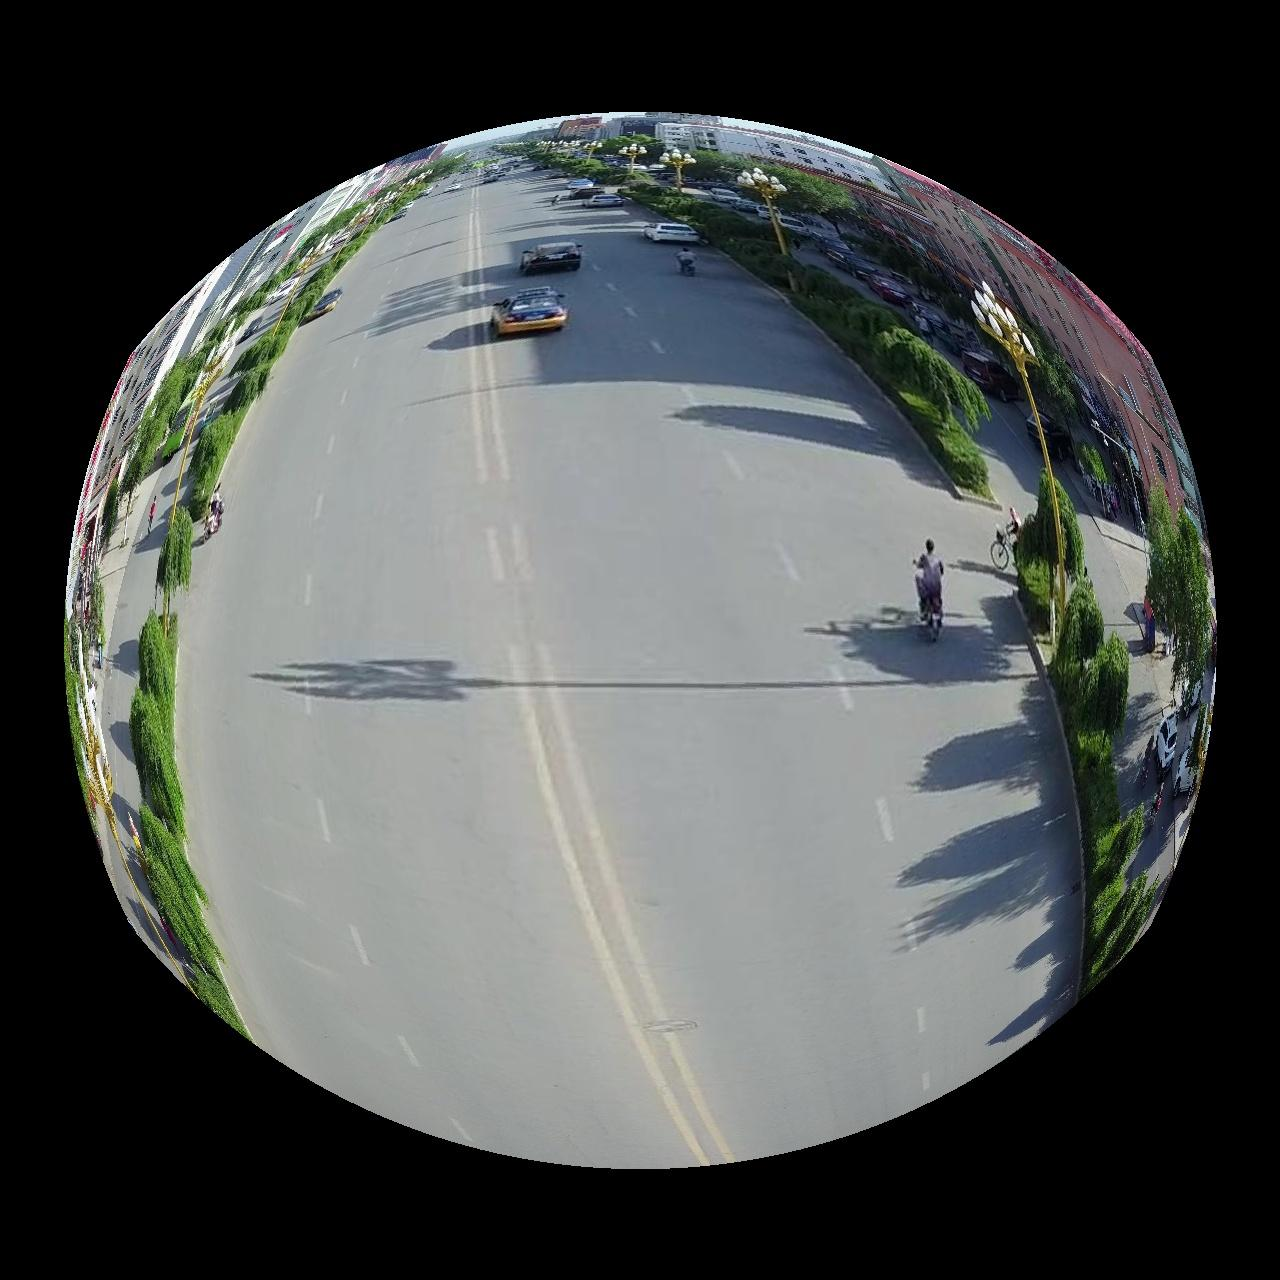cars: (491, 286, 568, 334), (519, 241, 583, 273), (644, 222, 699, 241)
trees: (629, 183, 992, 497), (188, 219, 379, 520), (128, 611, 245, 1035), (1051, 574, 1163, 996), (1149, 486, 1216, 689), (1016, 470, 1058, 633), (155, 508, 192, 617), (1058, 478, 1085, 584)
